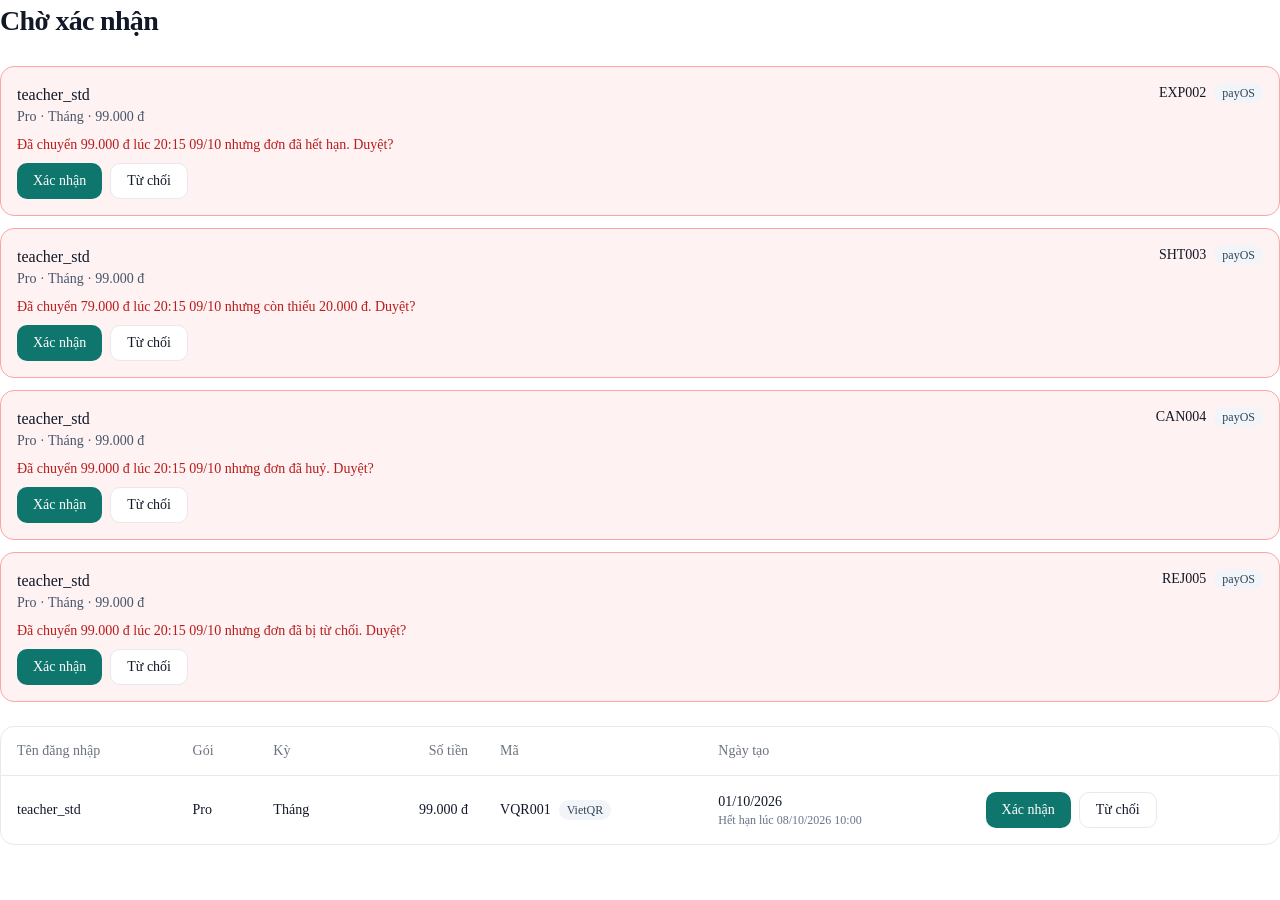
Test case: AdminPendingOrders: đơn payOS cần xử lý (spec AG §6) › Từ chối đơn có tiền: hộp xác nhận nhắc tự hoàn tiền
The image size is (1280, 900).
Click the 1st button "Từ chối": [149, 181] box [110,163,188,199]
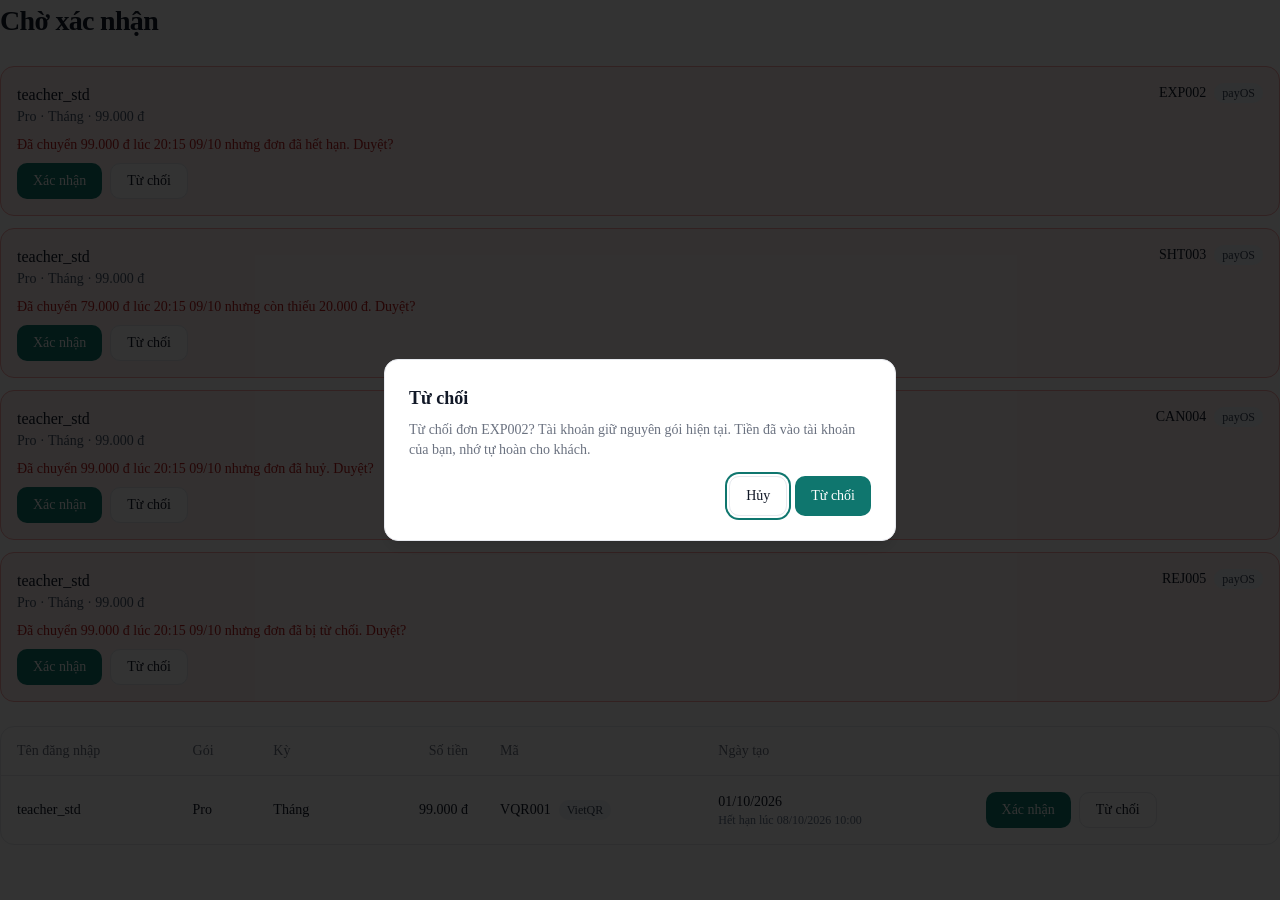
expect the dialog shows "Tiền đã vào tài khoản của bạn, nhớ tự hoàn cho khách.": met, box [409,422,855,457]
